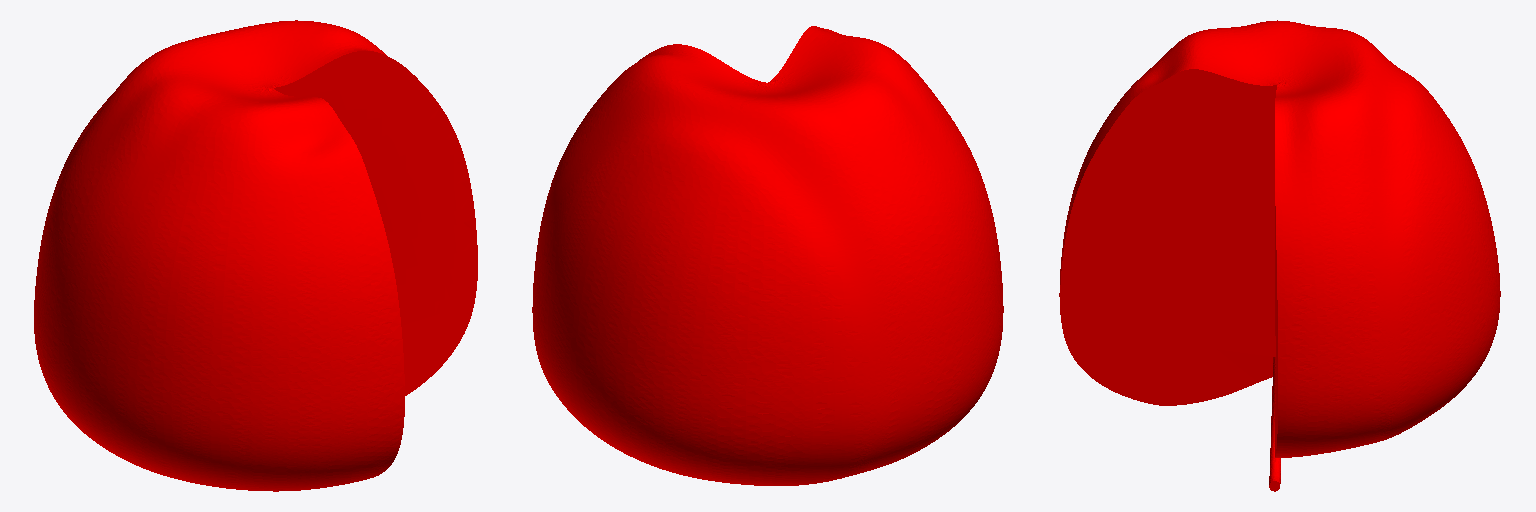
The robot description file, URDF, robot "apple.urdf":
<?xml version="0.0" ?>
<robot name="apple.urdf">
  <link name="baseLink">
    <contact>
      <lateral_friction value="1.0"/>
      <inertia_scaling value="3.0"/>
    </contact>
    <inertial>
      <origin rpy="0 0 0" xyz="0 0 0"/>
       <mass value=".2"/>
       <inertia ixx="0.1" ixy="0" ixz="0" iyy="0.1" iyz="0" izz="0.1"/>
    </inertial>
    <visual>
      <origin rpy="0 0 0" xyz="0 0 0"/>
      <geometry>
        <mesh filename="apple.stl" scale="0.001 .001 .001"/>
      </geometry>
      <material name="red">
        <color rgba="1 0 0 1"/>
      </material>
    </visual>
    <collision>
      <origin rpy="0 0 0" xyz="0 0 0"/>
      <geometry>
	 	<box size="0.05 0.05 0.05"/>
      </geometry>
    </collision>
  </link>
</robot>

--- What the picture shows (computed from the rendered views, not written in the file) ---
3 views of the same robot in one strip: view 1: azimuth 30°, elevation 25°; view 2: azimuth 150°, elevation 25°; view 3: azimuth 270°, elevation 25° (orthographic).
Model apple.urdf with 1 links and 0 joints (none), rooted at baseLink, posed all joints at 0.
Links seen in each view (by area): view 1: baseLink; view 2: baseLink; view 3: baseLink.
Link boxes in pixels (x1,y1,x2,y2): baseLink: [34, 20, 477, 491]; baseLink: [532, 26, 1003, 485]; baseLink: [1059, 20, 1500, 491].
Bounding box of the posed robot: 0.3434 × 0.346 × 0.3383 m (x, y, z).
1 mesh visuals loaded from 1 distinct referenced files (1 binary STL).